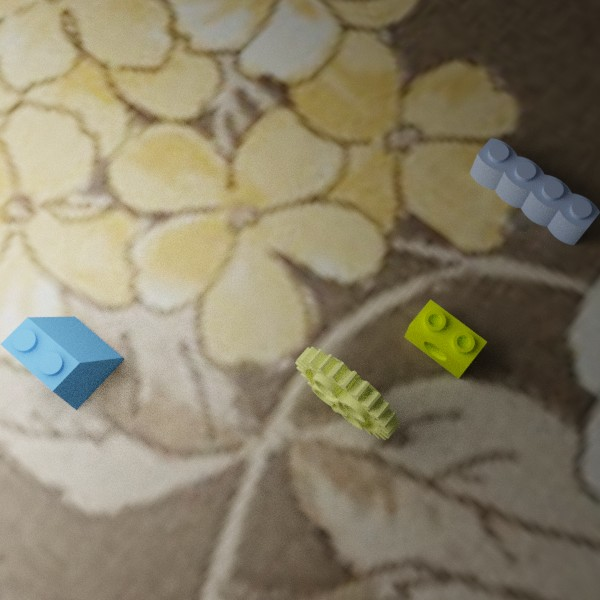lego: (469, 138, 600, 245), (0, 316, 124, 410), (295, 346, 399, 439), (404, 299, 487, 378)
